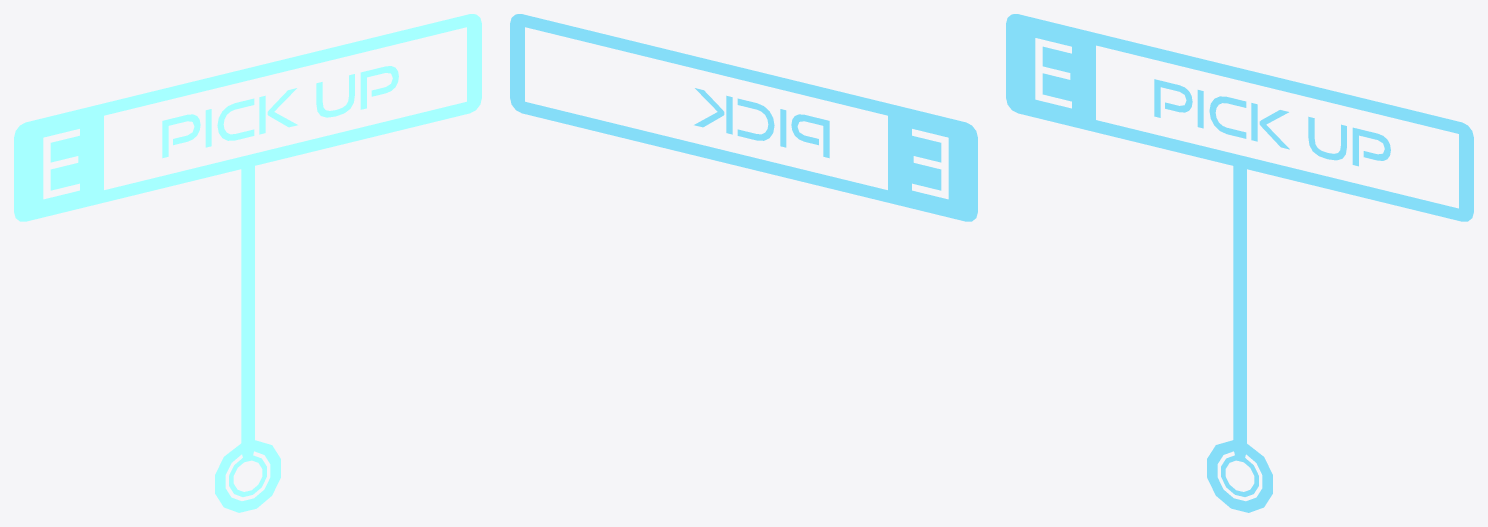
The model's file is callout.glb.
3 renders of one model, left to right at view 1: azimuth 30°, elevation 25°; view 2: azimuth 150°, elevation 25°; view 3: azimuth 330°, elevation 25°, orthographic.
Visible parts, largest first — view 1: callout; view 2: callout; view 3: callout.
Boxes of the visible parts, x1=… form: callout: x1=14, y1=14, x2=481, y2=512; callout: x1=510, y1=14, x2=977, y2=221; callout: x1=1006, y1=14, x2=1473, y2=512.
Size of the model in its own units: 6.01 by 5.44 by 7.37e-16.
